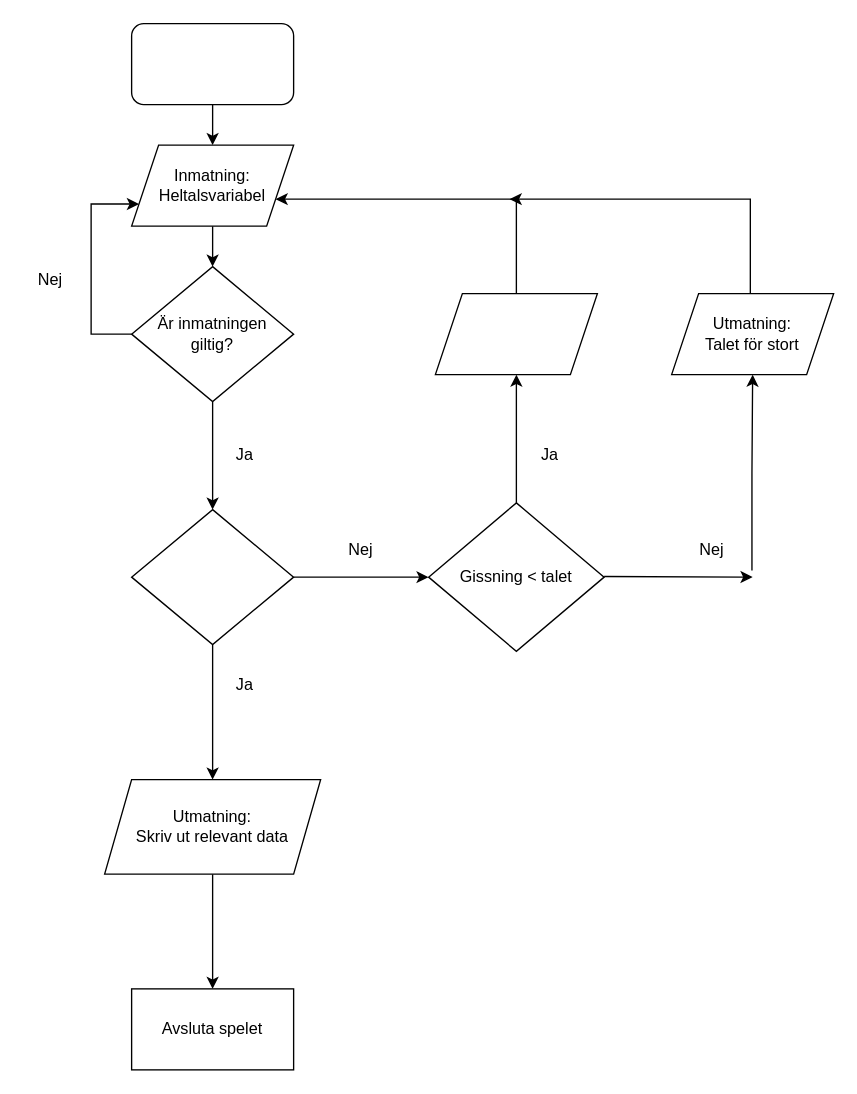
The diagram is 857 pixels wide and 1094 high, and some of its shapes have lost their labels. Here are the shapes that lost their labels. From the top down, the centre of each, then its label:
pixel 212 63: Start
pixel 515 333: Utmatning: Talet för litet
pixel 212 576: Gissning = talet
